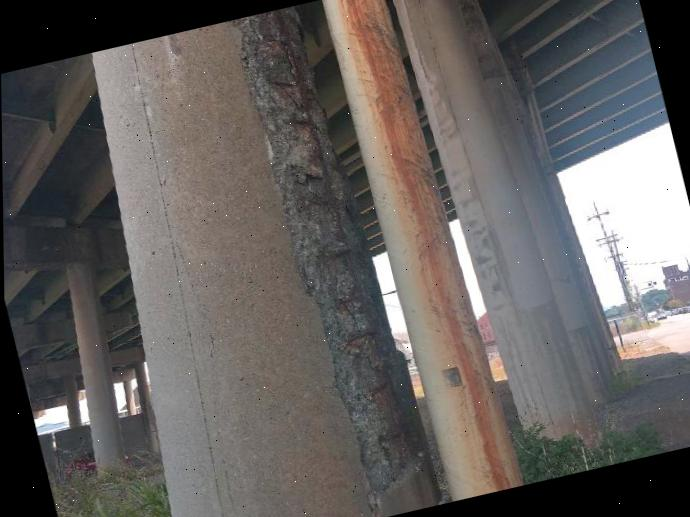spalling: (214, 0, 428, 517)
